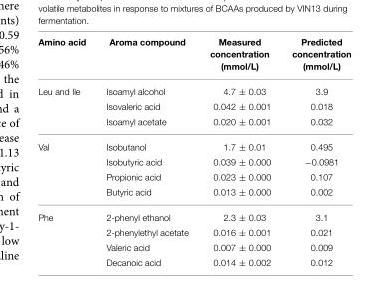table: (37, 37, 350, 266)
table column: (95, 37, 198, 266), (198, 37, 280, 266), (280, 37, 350, 266), (37, 37, 95, 266)
table column header: (37, 37, 350, 78)
table row: (37, 37, 350, 78), (37, 78, 350, 99), (37, 114, 350, 134), (37, 134, 350, 154), (37, 184, 350, 204), (37, 204, 350, 224), (37, 99, 350, 114), (37, 154, 350, 169), (37, 169, 350, 184), (37, 224, 350, 239), (37, 239, 350, 254), (37, 254, 350, 266)
table spanning cell: (37, 134, 95, 204), (37, 204, 95, 266), (37, 78, 95, 134)
